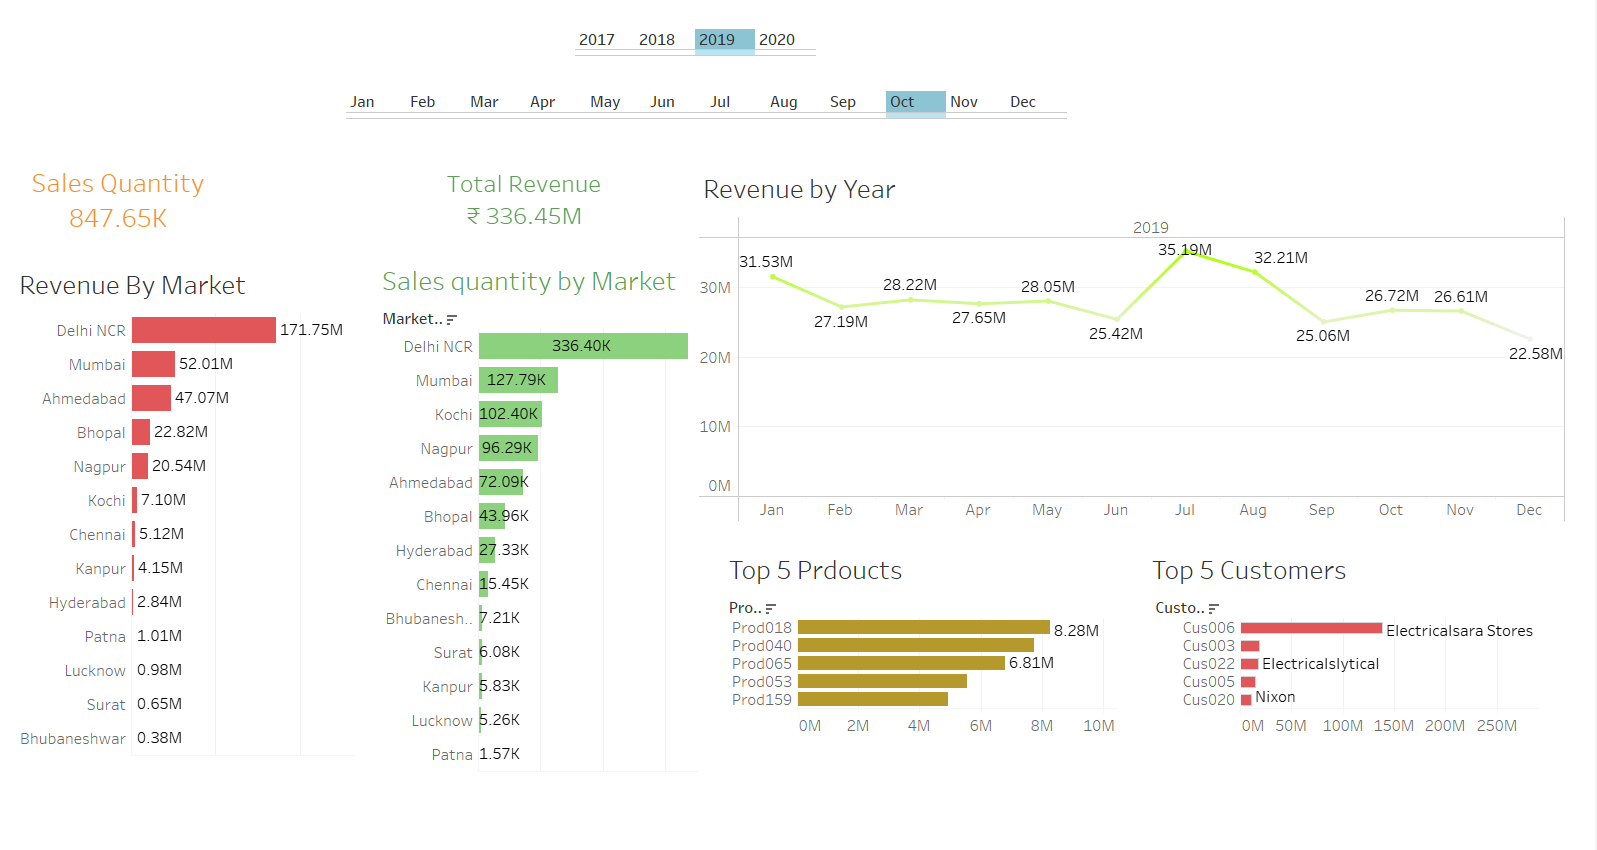

The page's visual inventory and layout, read from the dashboard file:
{"tool":"tableau","page":{"name":"Final Dashboard","canvas":[1600,900],"ordinal":0},"visuals":[{"type":"worksheet","title":"Years","mark":"Automatic","cols":["cy_date"],"box":[579,16,256,48]},{"type":"worksheet","title":"Month","mark":"Automatic","cols":["cy_date"],"box":[350,77.6,746,59.6]},{"type":"worksheet","title":"Sales qty","mark":"Automatic","box":[22,151.9,239,148.5]},{"type":"worksheet","title":"Total revenue","mark":"Automatic","box":[438,154,244,106]},{"type":"worksheet","title":"Revenue by year","mark":"Automatic","rows":["Calculation_1366561061280108544"],"cols":["cy_date","cy_date"],"box":[703,169,866,355]},{"type":"worksheet","title":"Sales qty by markets","mark":"Automatic","rows":["markets_name"],"cols":["sales_qty"],"box":[382,261,320,578]},{"type":"worksheet","title":"Revenue by market","mark":"Automatic","rows":["markets_name"],"cols":["Calculation_1366561061280108544"],"box":[19,265,340,594]},{"type":"worksheet","title":"Top 5 Products","mark":"Automatic","rows":["product_code (products)"],"cols":["Calculation_1366561061280108544"],"box":[729,550,392,268]},{"type":"worksheet","title":"Top 5 Customers","mark":"Automatic","rows":["customer_code (customers)"],"cols":["Calculation_1366561061280108544"],"box":[1152,550,391,244]}]}

Visuals, with their boxes on the page's 1600x900 design canvas (x1, y1, x2, y2). These are canvas units, not pixel positions in the 1597x850 screenshot, which may show the page scaled, cropped or inside an application window:
"Years" worksheet: x1=579 y1=16 x2=835 y2=64
"Month" worksheet: x1=350 y1=78 x2=1096 y2=137
"Sales qty" worksheet: x1=22 y1=152 x2=261 y2=300
"Total revenue" worksheet: x1=438 y1=154 x2=682 y2=260
"Revenue by year" worksheet: x1=703 y1=169 x2=1569 y2=524
"Sales qty by markets" worksheet: x1=382 y1=261 x2=702 y2=839
"Revenue by market" worksheet: x1=19 y1=265 x2=359 y2=859
"Top 5 Products" worksheet: x1=729 y1=550 x2=1121 y2=818
"Top 5 Customers" worksheet: x1=1152 y1=550 x2=1543 y2=794
